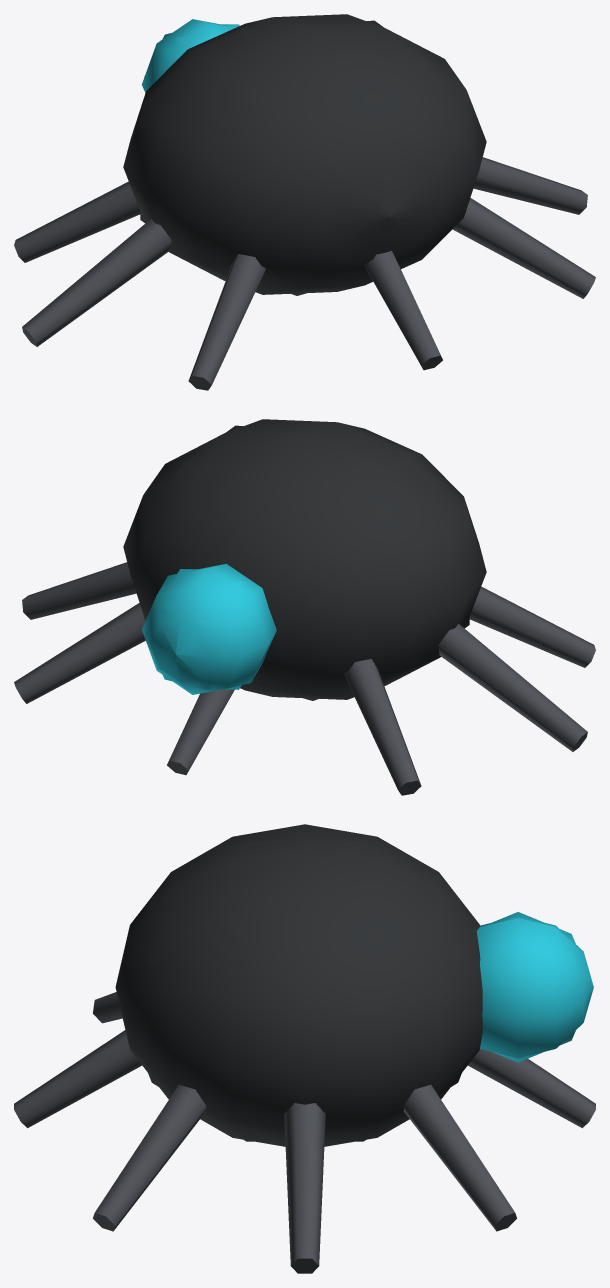
File: gr_tick.glb
3 renders of one model, top to bottom at view 1: azimuth 30°, elevation 25°; view 2: azimuth 150°, elevation 25°; view 3: azimuth 270°, elevation 25°, orthographic. The views are drawn at different scales.
Visible parts, largest first — view 1: L0, L1; view 2: L0, L1; view 3: L0, L1.
Part boxes in pixels (x1,y1,x2,y2): L0: (14,14,595,390); L1: (140,20,469,295); L0: (14,419,595,795); L1: (140,425,469,700); L0: (14,824,595,1273); L1: (146,841,576,1141).
Bounding box in the file's own units: 0.1524 × 0.0643 × 0.1229.
